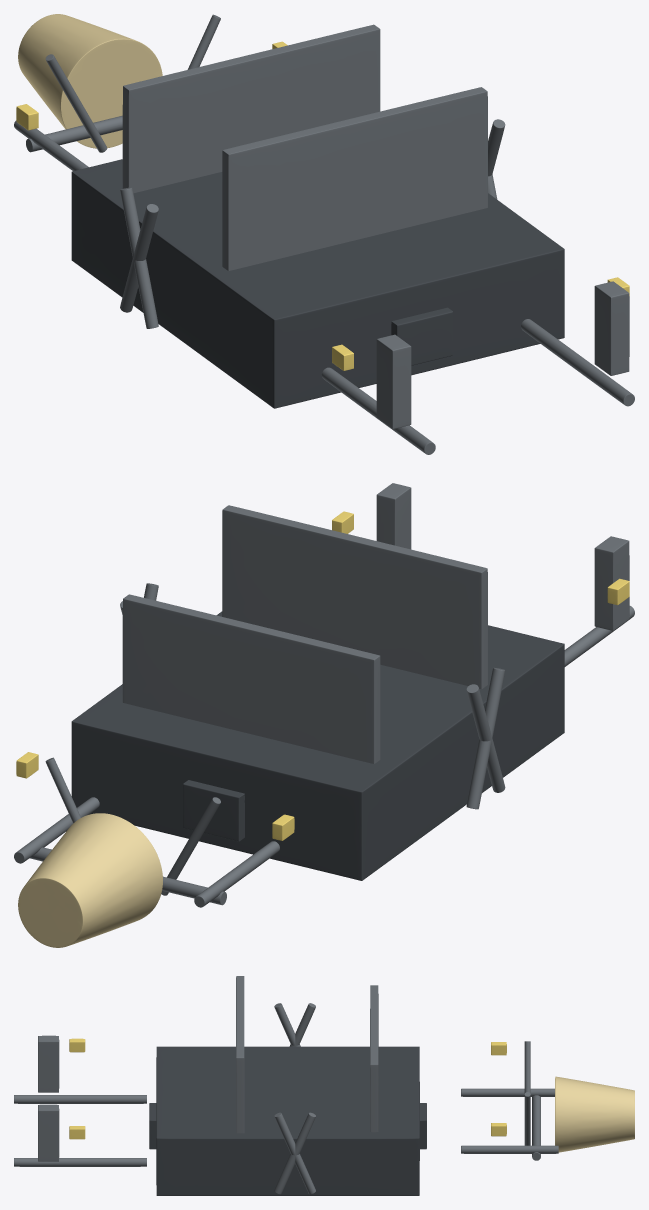
The model's file is sports_car_chassis_01.glb.
3 views of the same model, one above another, from view 1: azimuth 30°, elevation 25°; view 2: azimuth 150°, elevation 25°; view 3: azimuth 270°, elevation 25° (orthographic). The views are drawn at different scales.
Parts seen in each view (by area): view 1: Chassis_Carbon_Monocoque_Tub, Roll_Cage_Main_Hoop, Roll_Cage_Front_Hoop, Chassis_Crash_Attenuator_Cone, Rear_Damper_Tower_Left, Rear_Damper_Tower_Right, Chassis_Torque_Tunnel, Rear_Subframe_Cradle_Right, Roll_Cage_Door_XBar_Left_2, Rear_Subframe_Cradle_Left, Roll_Cage_Door_XBar_Left_1, Front_Subframe_Strut_Left (+2 smaller); view 2: Chassis_Carbon_Monocoque_Tub, Roll_Cage_Main_Hoop, Roll_Cage_Front_Hoop, Chassis_Crash_Attenuator_Cone, Chassis_Torque_Tunnel, Rear_Damper_Tower_Left, Rear_Damper_Tower_Right, Roll_Cage_Door_XBar_Left_1, Front_Subframe_Rail_Left, Roll_Cage_Door_XBar_Left_2, Front_Subframe_Rail_Right, Front_Subframe_Strut_Left (+3 smaller); view 3: Chassis_Carbon_Monocoque_Tub, Chassis_Crash_Attenuator_Cone, Roll_Cage_Main_Hoop, Roll_Cage_Front_Hoop, Rear_Damper_Tower_Right, Rear_Damper_Tower_Left, Rear_Subframe_Cradle_Left, Rear_Subframe_Cradle_Right, Front_Subframe_Rail_Right, Front_Subframe_Rail_Left, Roll_Cage_Door_XBar_Right_1, Roll_Cage_Door_XBar_Right_2 (+6 smaller).
Part boxes in pixels (x1,y1,x2,y2): Chassis_Carbon_Monocoque_Tub: (71, 159, 564, 408); Roll_Cage_Main_Hoop: (222, 87, 487, 270); Roll_Cage_Front_Hoop: (122, 24, 380, 193); Chassis_Crash_Attenuator_Cone: (18, 14, 162, 148); Rear_Damper_Tower_Left: (376, 334, 411, 429); Rear_Damper_Tower_Right: (594, 281, 629, 375); Chassis_Torque_Tunnel: (391, 307, 452, 365); Rear_Subframe_Cradle_Right: (521, 319, 634, 406); Roll_Cage_Door_XBar_Left_2: (120, 187, 158, 328); Rear_Subframe_Cradle_Left: (321, 367, 435, 454); Roll_Cage_Door_XBar_Left_1: (120, 204, 158, 312); Front_Subframe_Strut_Left: (45, 54, 107, 152); Chassis_Carbon_Monocoque_Tub: (71, 611, 564, 880); Roll_Cage_Main_Hoop: (222, 505, 487, 689); Roll_Cage_Front_Hoop: (122, 594, 380, 763); Chassis_Crash_Attenuator_Cone: (18, 813, 162, 947); Chassis_Torque_Tunnel: (183, 780, 244, 841); Rear_Damper_Tower_Left: (594, 536, 629, 630); Rear_Damper_Tower_Right: (376, 483, 411, 549); Roll_Cage_Door_XBar_Left_1: (466, 667, 505, 809); Front_Subframe_Rail_Left: (194, 841, 279, 907); Roll_Cage_Door_XBar_Left_2: (466, 684, 505, 792); Front_Subframe_Rail_Right: (14, 797, 99, 863); Front_Subframe_Strut_Left: (161, 797, 220, 895); Chassis_Carbon_Monocoque_Tub: (156, 1046, 419, 1195); Chassis_Crash_Attenuator_Cone: (555, 1076, 634, 1152); Roll_Cage_Main_Hoop: (236, 976, 244, 1133); Roll_Cage_Front_Hoop: (370, 985, 378, 1132); Rear_Damper_Tower_Right: (38, 1104, 59, 1161); Rear_Damper_Tower_Left: (38, 1035, 59, 1092); Rear_Subframe_Cradle_Left: (14, 1095, 146, 1103); Rear_Subframe_Cradle_Right: (14, 1158, 146, 1166); Front_Subframe_Rail_Right: (461, 1145, 558, 1153); Front_Subframe_Rail_Left: (461, 1088, 554, 1096); Roll_Cage_Door_XBar_Right_1: (274, 1112, 315, 1194); Roll_Cage_Door_XBar_Right_2: (274, 1112, 315, 1194).
Bounding box in the file's own units: 1.51 × 0.8299 × 3.5.
